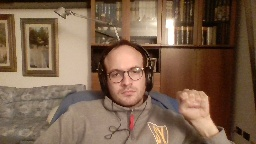Pugno: (174, 85, 211, 122)
